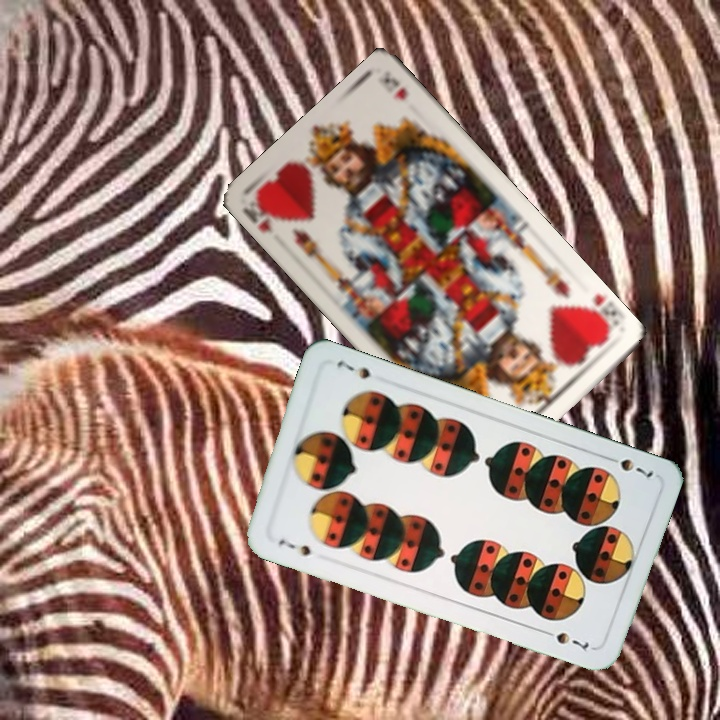HK: (239, 193, 286, 236), (580, 290, 622, 337)
S7: (600, 451, 656, 480), (274, 535, 313, 559)
